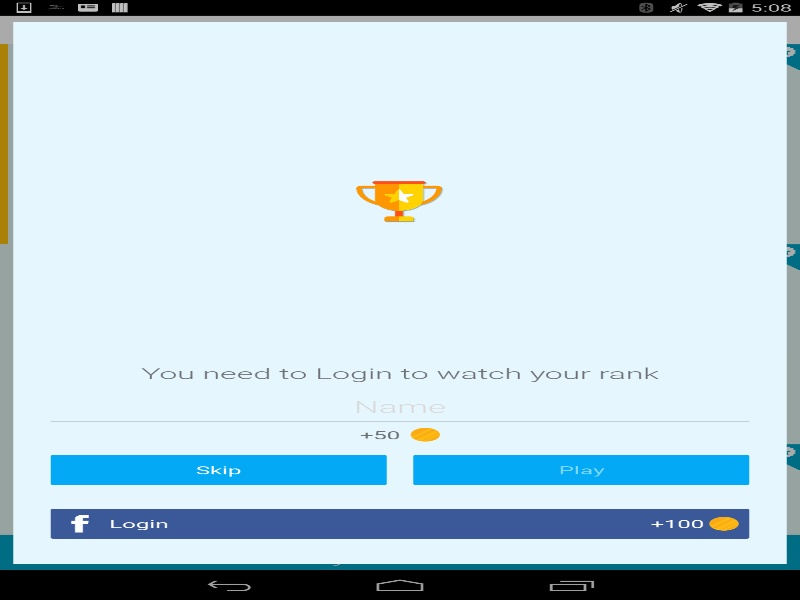Input: (50, 392, 749, 420)
